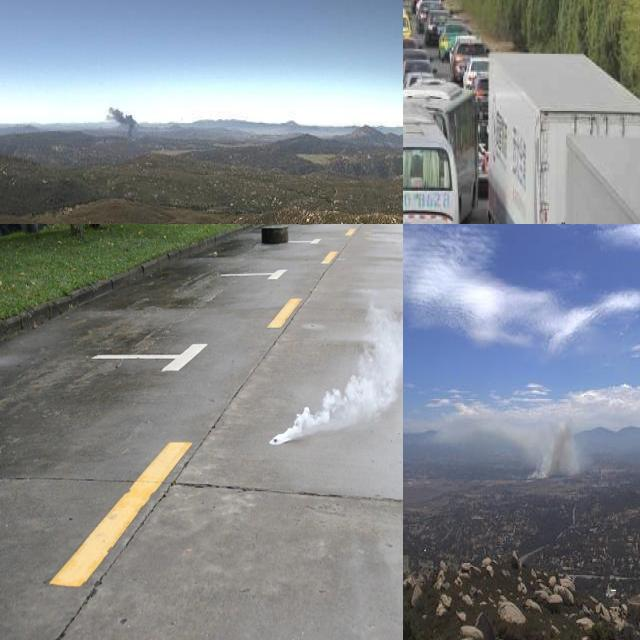smoke: (267, 300, 403, 446), (431, 396, 586, 481), (102, 102, 141, 143)
